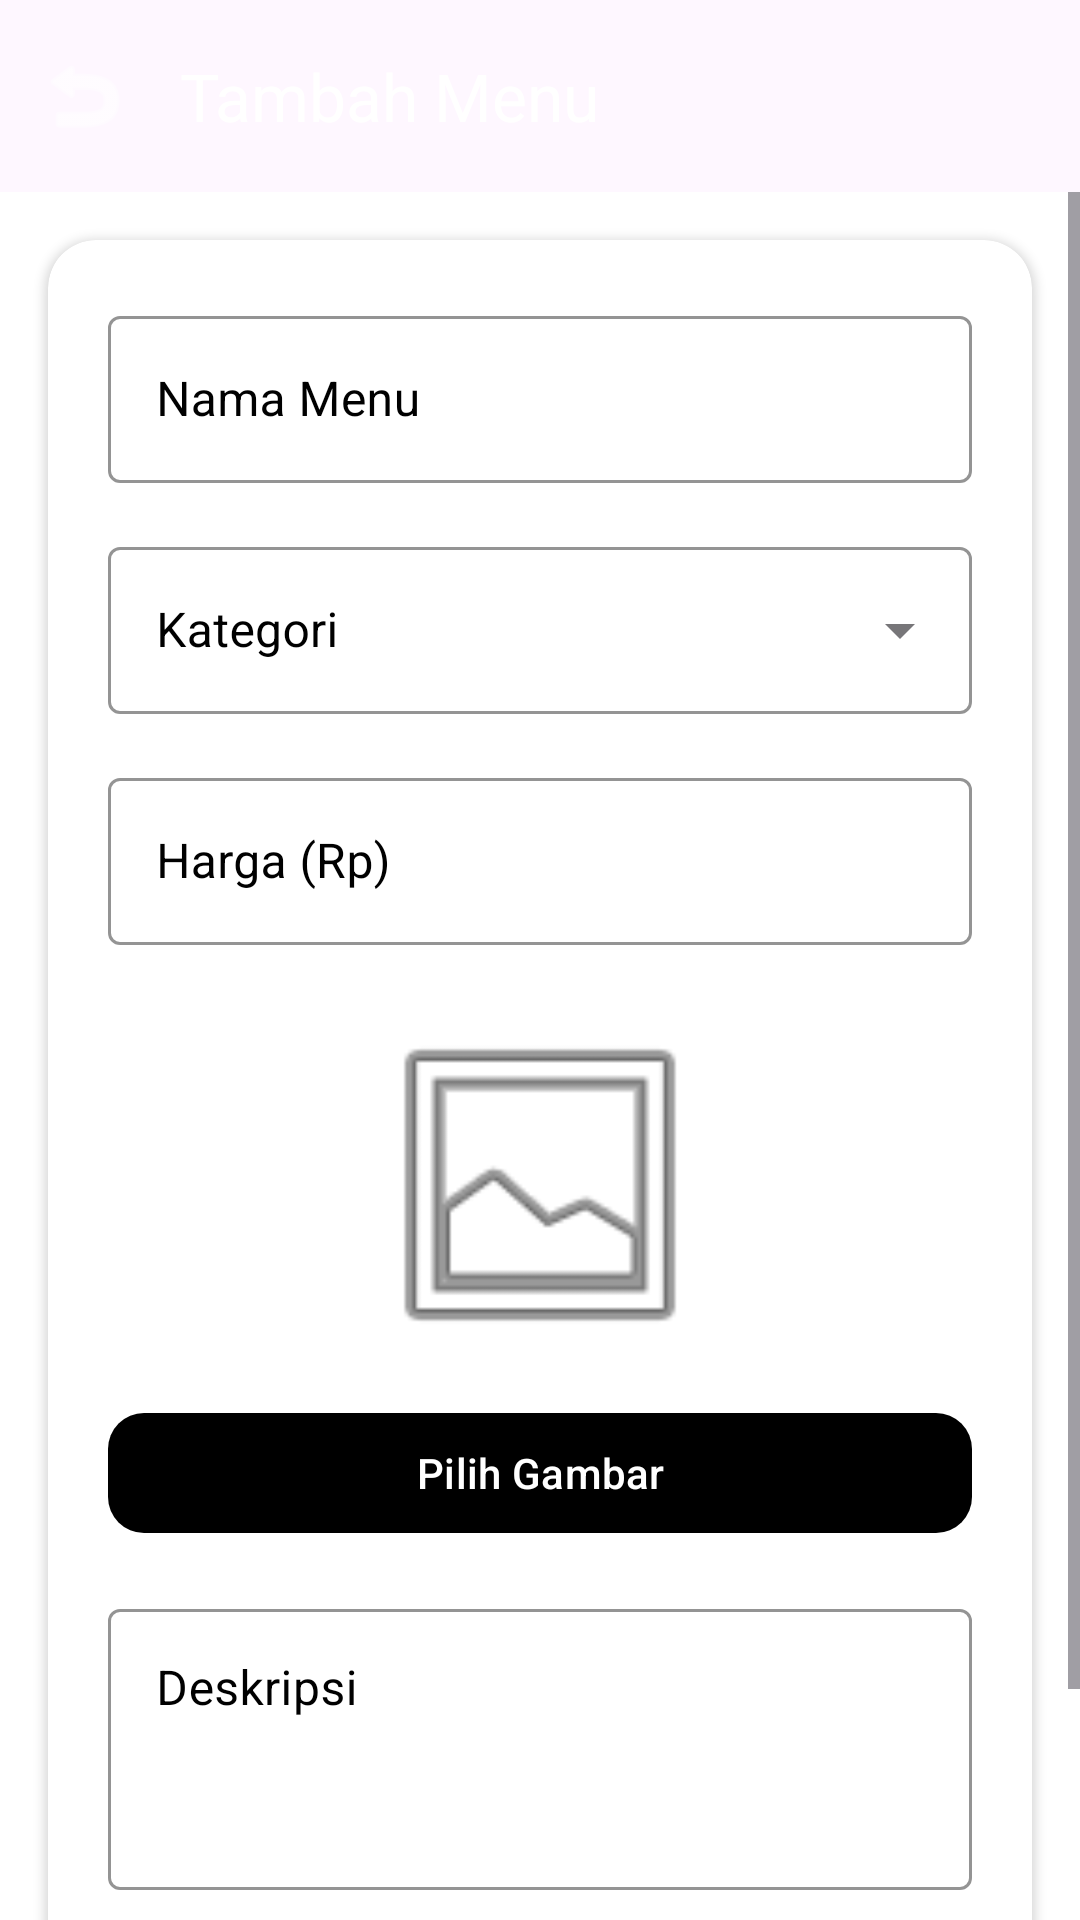

Icon bounding boxes for this 1080 × 1920 phone screenshot, format {"x1": x1, "y1": y1, "x2": x2, "y2": y2}:
gallery: {"x1": 404, "y1": 1049, "x2": 676, "y2": 1321}
